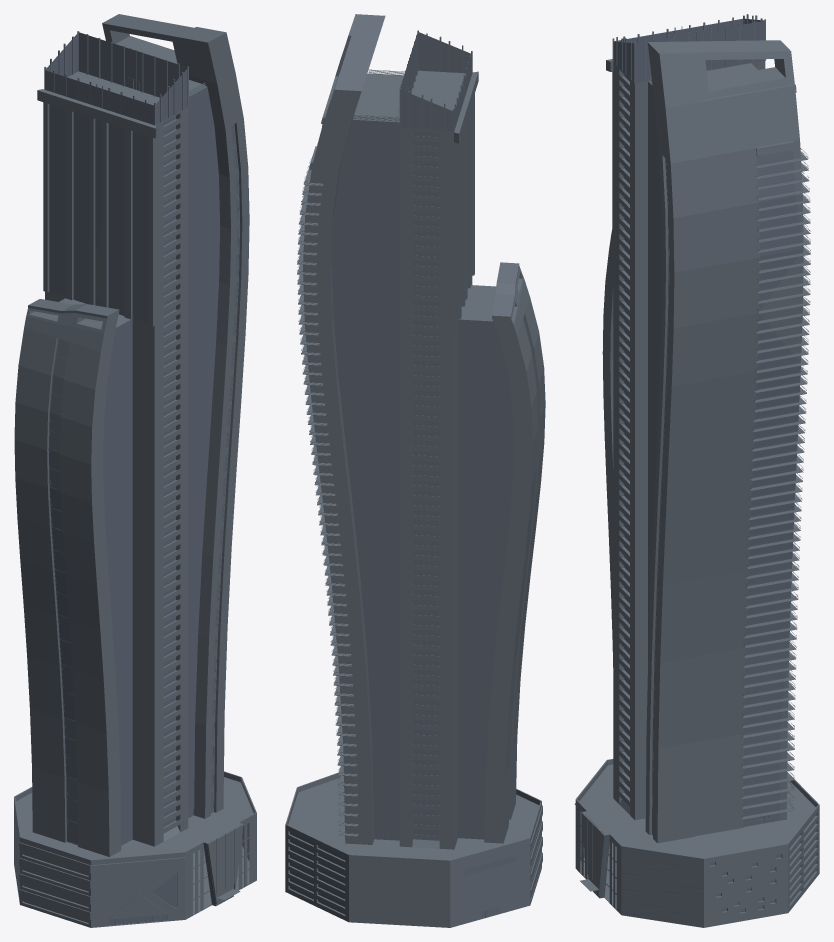
Rendered from residential04-optimized.glb.
3 renders of one model, left to right at view 1: azimuth 30°, elevation 25°; view 2: azimuth 150°, elevation 25°; view 3: azimuth 270°, elevation 25°, orthographic. The views are drawn at different scales.
Visible parts, largest first — view 1: 001_Residential_04; view 2: 001_Residential_04; view 3: 001_Residential_04.
Part boxes in pixels (bbox=[...]): 001_Residential_04: bbox=[14, 14, 256, 927]; 001_Residential_04: bbox=[285, 14, 545, 927]; 001_Residential_04: bbox=[574, 14, 819, 927].
Size of the model in its own units: 97.07 by 334 by 86.89.
